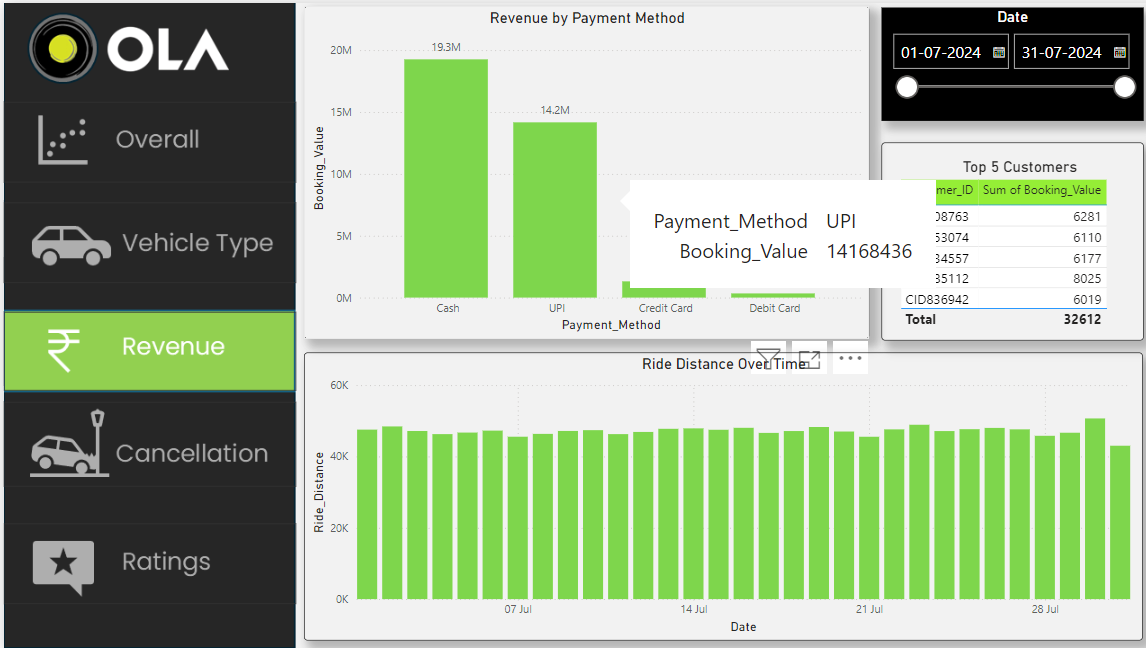

The page's visual inventory and layout, read from the dashboard file:
{"tool":"powerbi","page":{"name":"Revenue","canvas":[1280,720],"ordinal":2},"visuals":[{"type":"actionButton","box":[0,221.1,324.5,89.1],"z":0},{"type":"actionButton","box":[0,343.6,324.5,87.5],"z":1000},{"type":"actionButton","box":[0,443.8,324.5,93.8],"z":2000},{"type":"actionButton","box":[0,579,324.5,89.1],"z":3000},{"type":"actionButton","box":[0,109.8,324.5,89.1],"z":4000},{"type":"columnChart","title":"Revenue by Payment Method","fields":{"Y":["Sum(Bookings.Booking_Value)"],"Category":["Bookings.Payment_Method"]},"box":[334,4,628,370],"z":5000},{"type":"columnChart","title":"Ride Distance Over Time","fields":{"Y":["Sum(Bookings.Ride_Distance)"],"Category":["Bookings.Date"]},"box":[334,388,932,320],"z":6000},{"type":"slicer","title":"Date","fields":{"Values":["Bookings.Date"]},"box":[975.7,5.7,291.4,125.7],"z":7000},{"type":"tableEx","title":"Top 5 Customers","fields":{"Values":["Bookings.Customer_ID","Sum(Bookings.Booking_Value)"]},"box":[975.7,154.3,291.4,220],"z":8000}]}

Visuals, with their boxes in screenshot pixels (x1, y1, x2, y2), scaled from the page's 1280x720 canvas onto the 1146x648 screenshot:
actionButton: l=0, t=199, r=291, b=279
actionButton: l=0, t=309, r=291, b=388
actionButton: l=0, t=399, r=291, b=484
actionButton: l=0, t=521, r=291, b=601
actionButton: l=0, t=99, r=291, b=179
"Revenue by Payment Method" columnChart: l=299, t=4, r=861, b=337
"Ride Distance Over Time" columnChart: l=299, t=349, r=1133, b=637
"Date" slicer: l=874, t=5, r=1134, b=118
"Top 5 Customers" tableEx: l=874, t=139, r=1134, b=337
